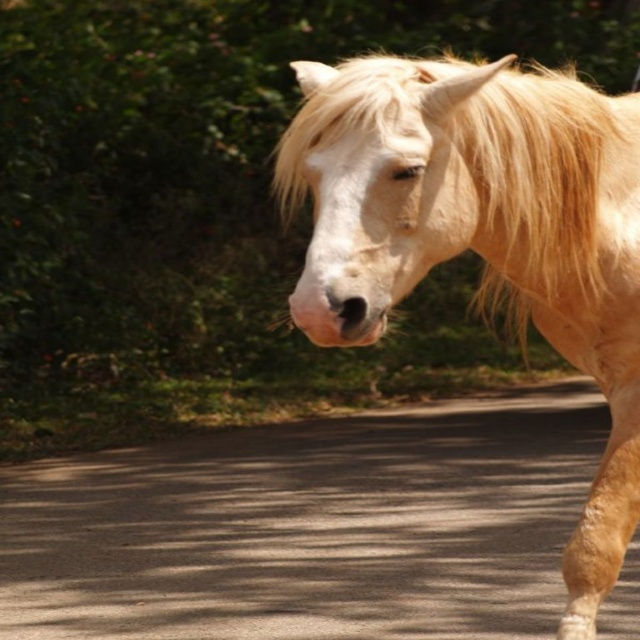Horse: (268, 51, 639, 639)
